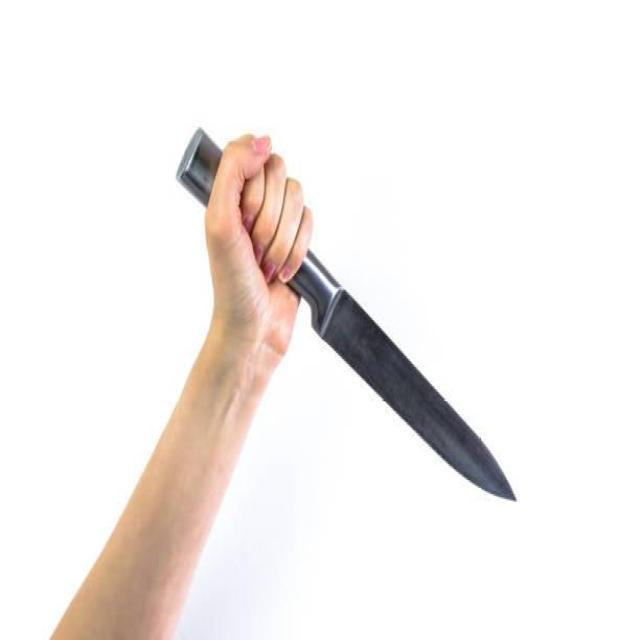faca: (174, 110, 528, 510)
